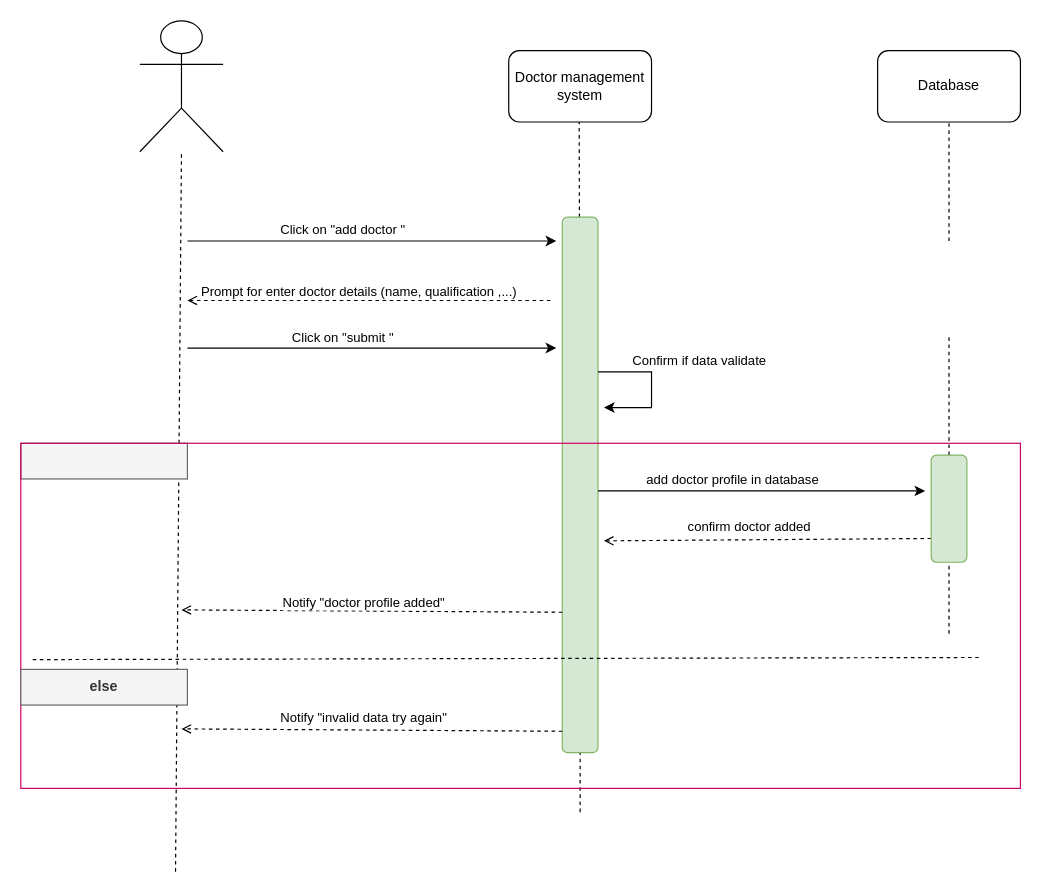
Image size: 1041x894. Some labels were removed from this diagram. The shapes that lost their labels are listed below. From the top down, each one's centre as x and y in pixels, then its label:
At [181,86]: "Admin".
At [103,460]: "Success complete".
